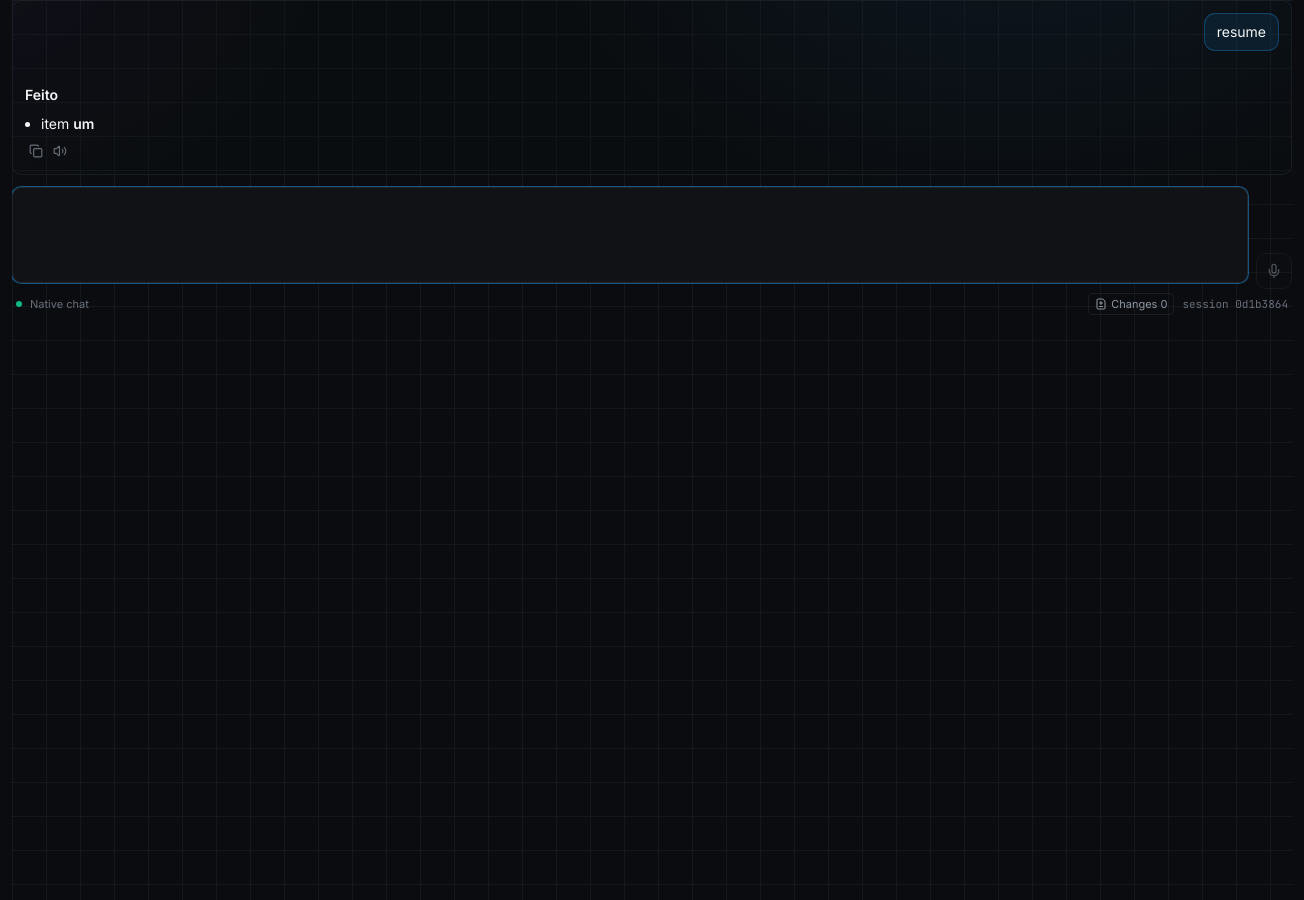
it: copy and listen under a finished answer › copy puts the whole answer, as written, on the clipboard and confirms
The image size is (1304, 900).
Click the button with test id "sdk-answer-copy": (36, 151) x1=25 y1=140 x2=47 y2=162
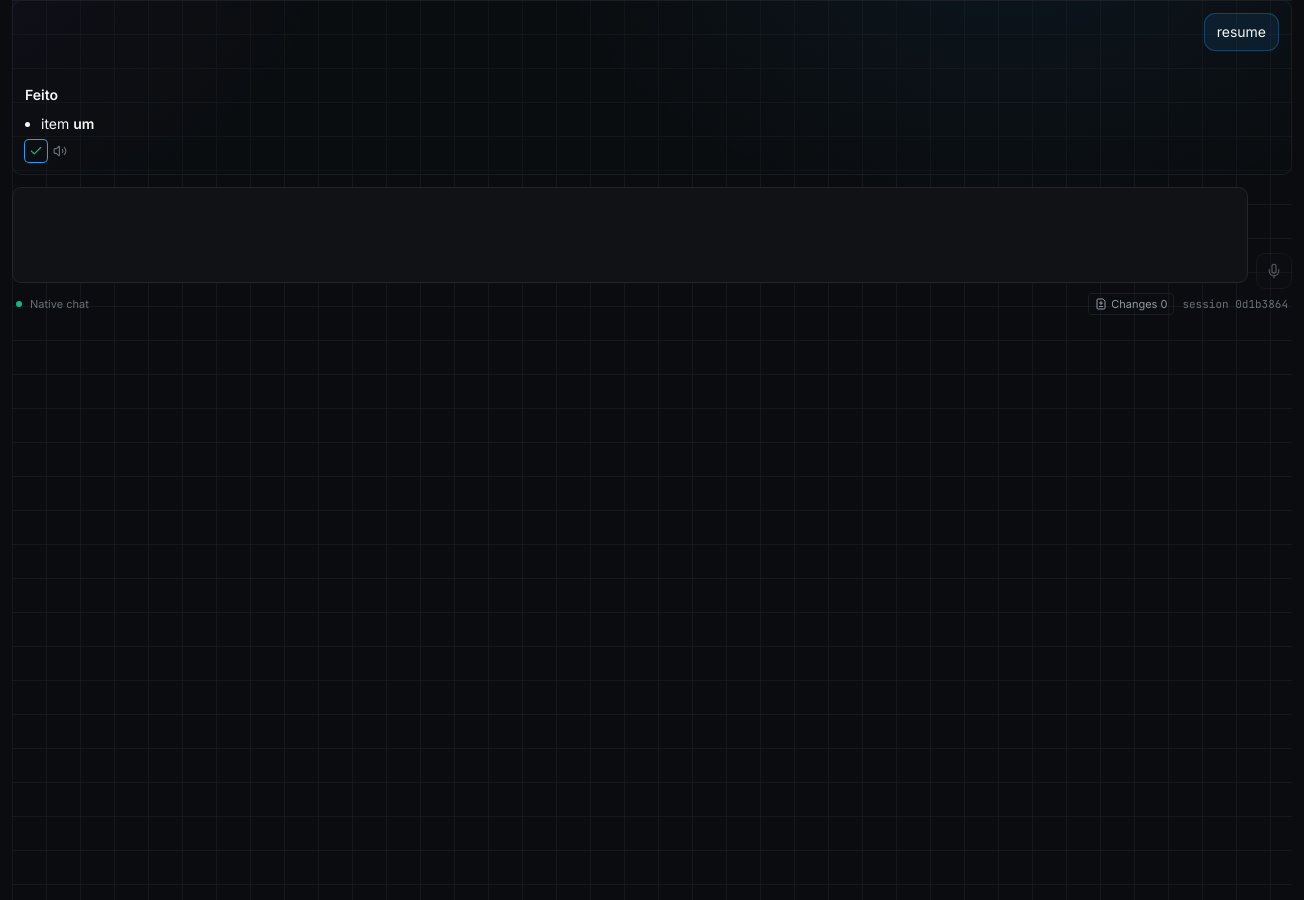
Now the button named "Copied" is shown, box x1=25 y1=140 x2=47 y2=162
